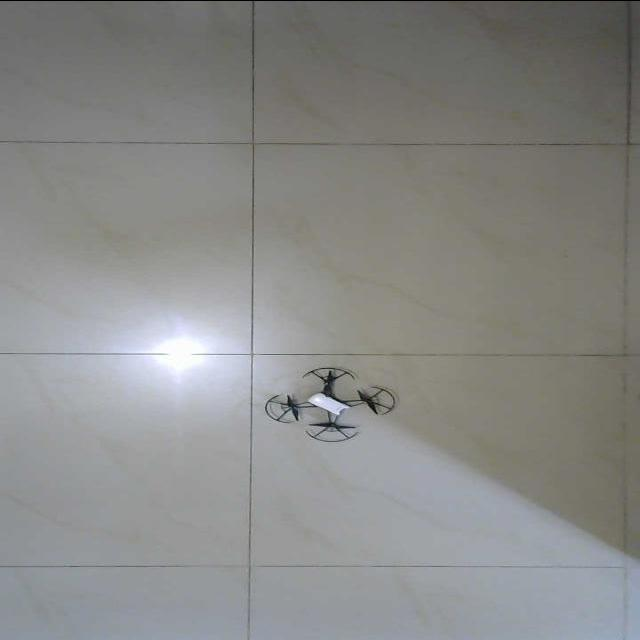drone: (262, 365, 396, 441)
